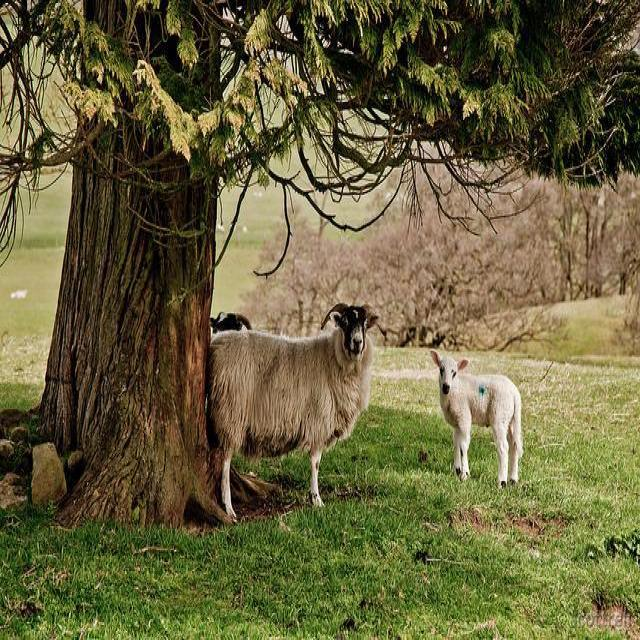Sheep: (210, 303, 381, 523), (429, 349, 524, 492)
